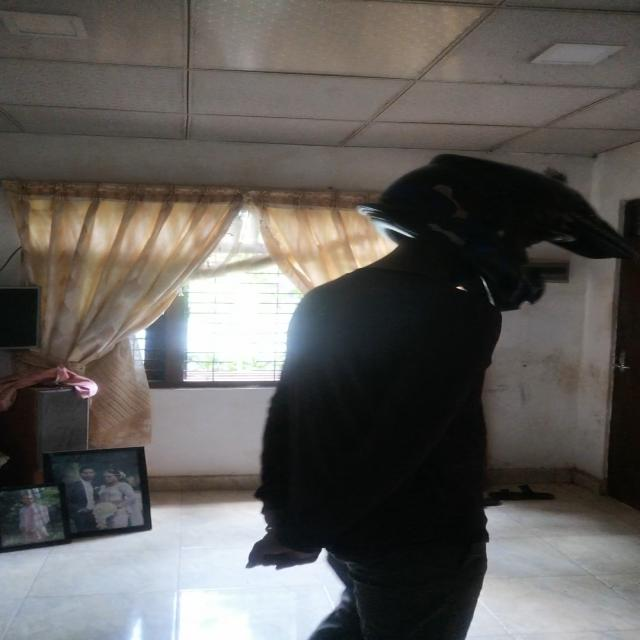Helmet_Wearer: (300, 150, 626, 305)
Person: (265, 155, 587, 640)
